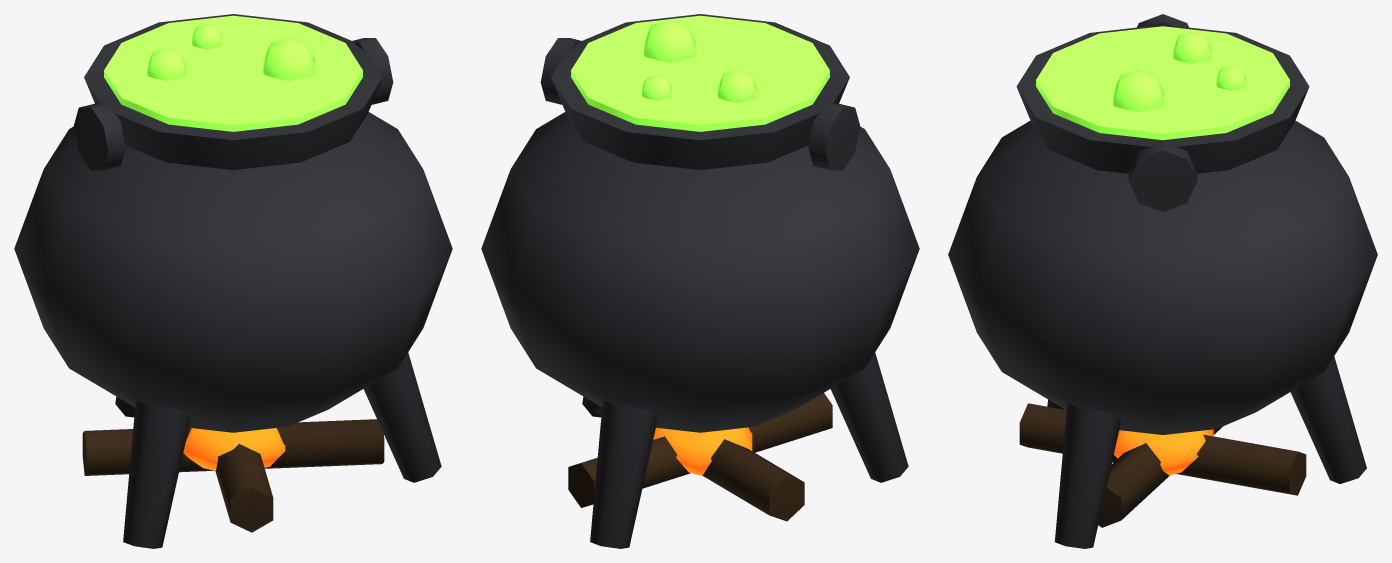
File: cauldron.glb
3 views of the same model, side by side, from view 1: azimuth 30°, elevation 25°; view 2: azimuth 150°, elevation 25°; view 3: azimuth 270°, elevation 25° (orthographic). The views are drawn at different scales.
Parts seen in each view (by area): view 1: cauldron_model, cauldron_brew, cauldron_bubble (×3), cauldron_embers; view 2: cauldron_model, cauldron_brew, cauldron_bubble (×3), cauldron_embers; view 3: cauldron_model, cauldron_brew, cauldron_bubble (×3), cauldron_embers.
Boxes of the visible parts, x1,y1,x2,y2 form: cauldron_model: (14, 14, 452, 548); cauldron_brew: (104, 15, 362, 131); cauldron_bubble (×3): (147, 24, 314, 80); cauldron_embers: (183, 428, 285, 470); cauldron_model: (481, 14, 919, 548); cauldron_brew: (571, 15, 829, 131); cauldron_bubble (×3): (642, 20, 756, 102); cauldron_embers: (653, 427, 752, 475); cauldron_model: (948, 14, 1377, 548); cauldron_brew: (1036, 26, 1289, 139); cauldron_bubble (×3): (1113, 32, 1246, 112); cauldron_embers: (1114, 429, 1213, 475).
Bounding box in the file's own units: 0.88 × 0.9726 × 0.88.
